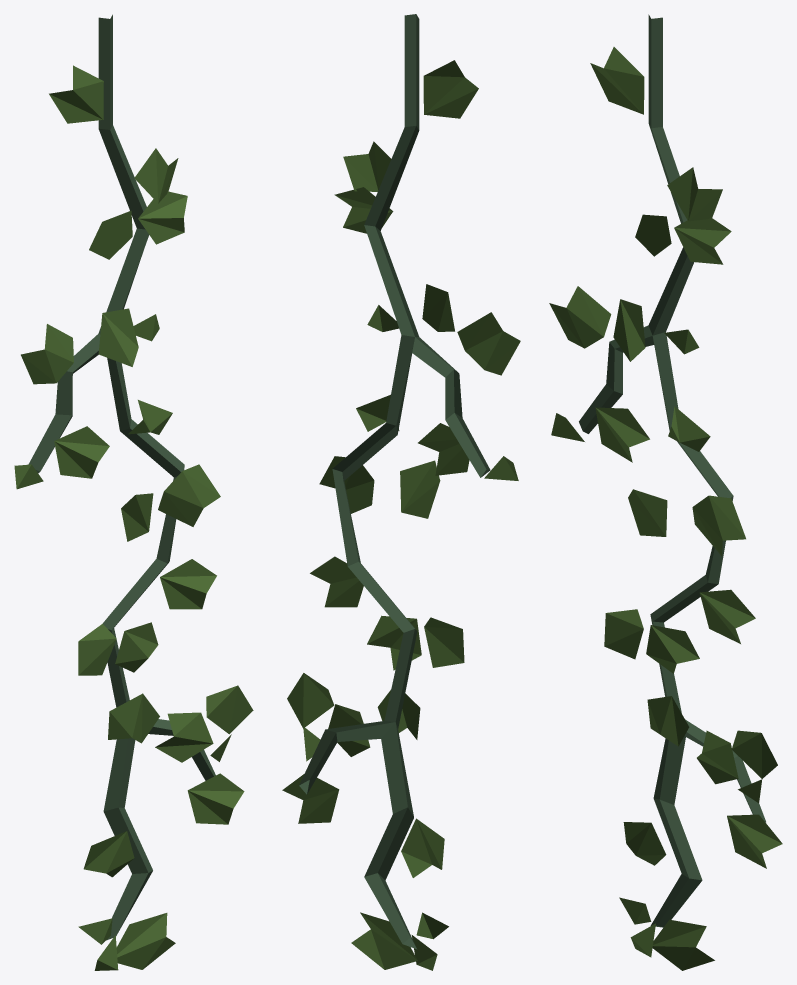
The model's file is SM_Env_Vines_Wall_02.glb.
The picture shows the model from 3 angles, left to right: view 1: azimuth 30°, elevation 25°; view 2: azimuth 150°, elevation 25°; view 3: azimuth 330°, elevation 25°; orthographic projection. The views are drawn at different scales.
Visible parts, largest first — view 1: SM_Env_Vines_Wall_02; view 2: SM_Env_Vines_Wall_02; view 3: SM_Env_Vines_Wall_02.
Part boxes in pixels (<box>): SM_Env_Vines_Wall_02: <box>14,14,253,970</box>; SM_Env_Vines_Wall_02: <box>282,14,520,970</box>; SM_Env_Vines_Wall_02: <box>549,14,782,970</box>.
Bounding box in the file's own units: 0.00697 × 0.0273 × 0.00136.
